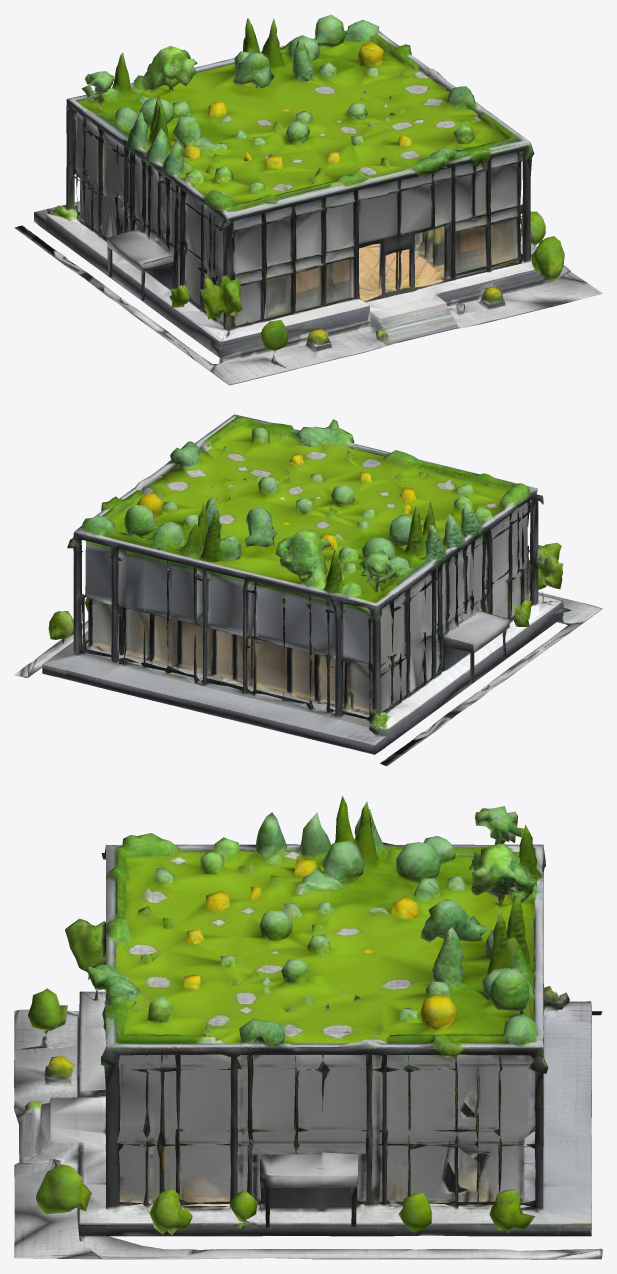
File: barracks.glb
3 views of the same model, one above another, from view 1: azimuth 30°, elevation 25°; view 2: azimuth 150°, elevation 25°; view 3: azimuth 270°, elevation 25° (orthographic). The views are drawn at different scales.
Visible parts, largest first — view 1: Mesh_0; view 2: Mesh_0; view 3: Mesh_0.
Boxes of the visible parts, <box> form: Mesh_0: <box>14,14,602,385</box>; Mesh_0: <box>14,414,602,766</box>; Mesh_0: <box>14,796,602,1259</box>.
Bounding box in the file's own units: 1.91 × 0.8988 × 1.91.
Materials: 1 (1 with a texture image).
